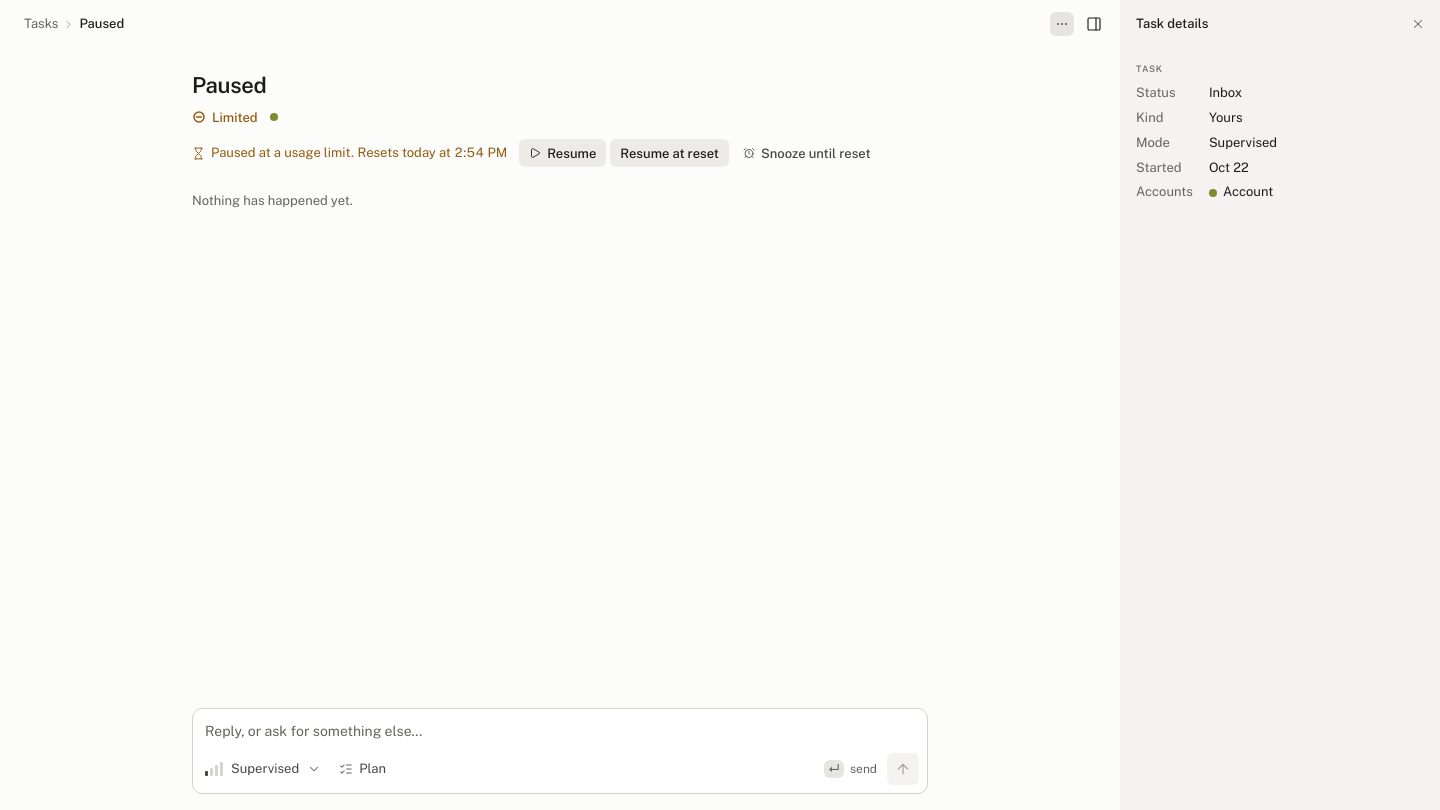
Limited › says why when the task is no longer limited
Click the button "Resume" at (563,153), box [519,139,606,167]
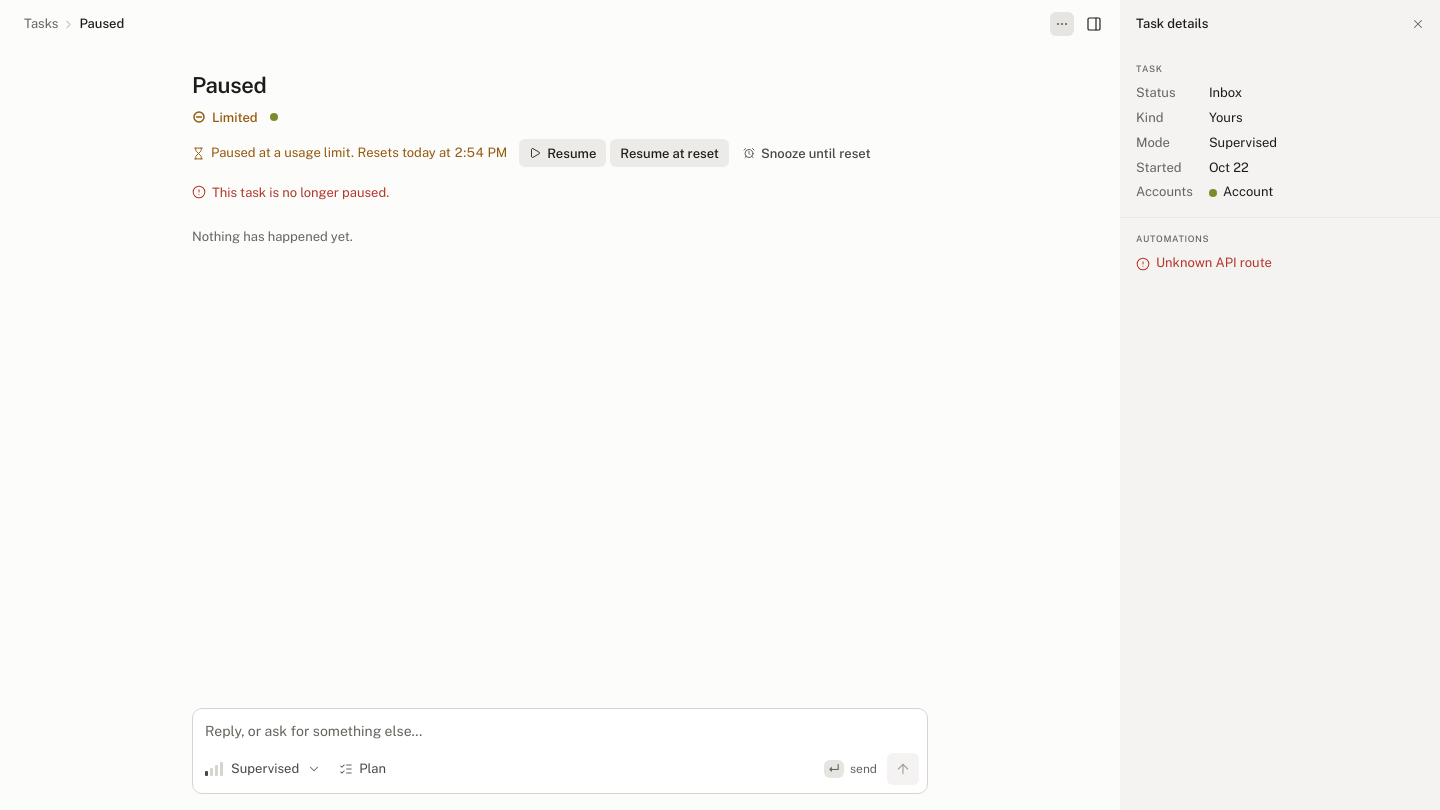
Result: the text "This task is no longer paused." is shown at [192,185,389,200]
